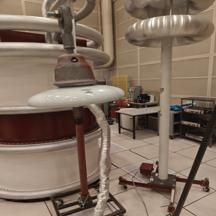insulator: (18, 43, 129, 115)
